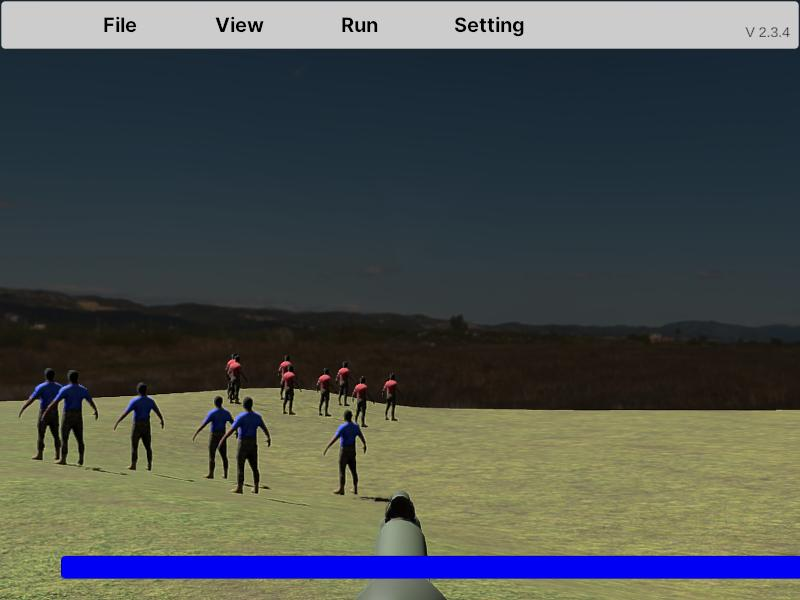Human: (18, 367, 80, 461), (41, 369, 99, 467), (217, 397, 271, 494), (113, 383, 164, 472), (192, 395, 240, 480), (193, 396, 241, 480), (324, 409, 366, 495)
